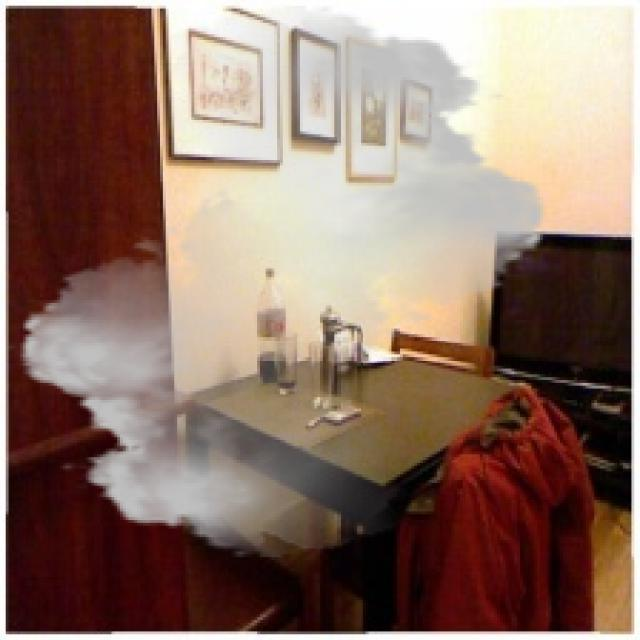Smoke: (3, 5, 563, 558)
